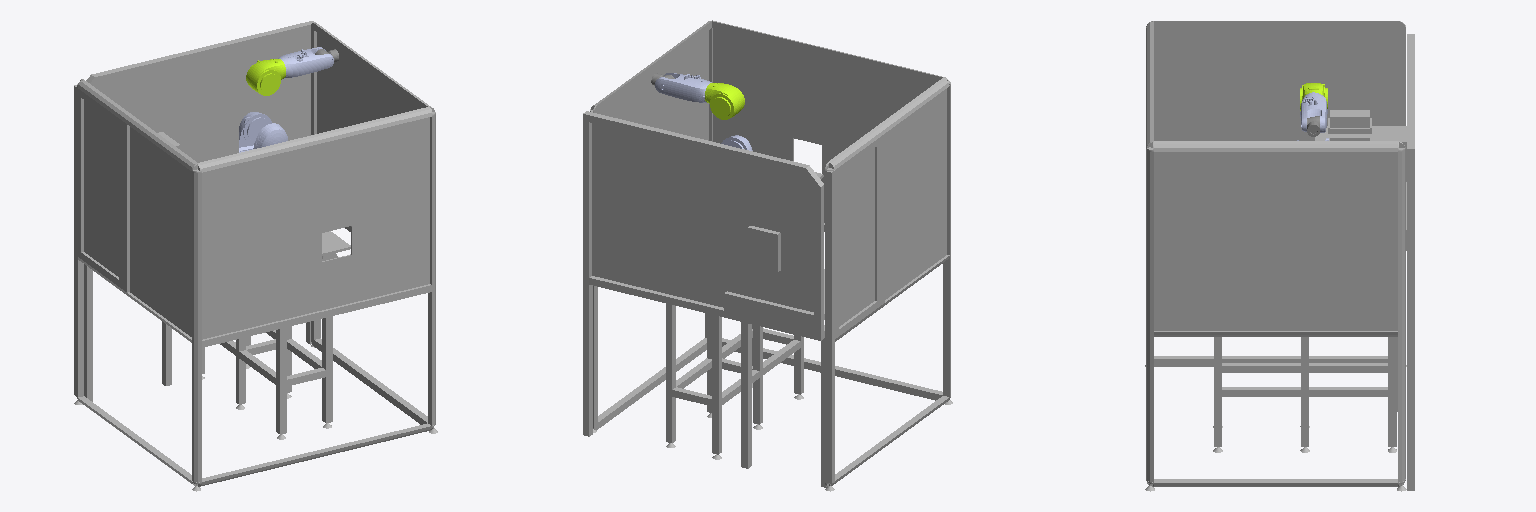
robot.urdf — kuka_urdf:
<?xml version="1.0" encoding="utf-8"?>
<!-- This URDF was automatically created by SolidWorks to URDF Exporter! Originally created by [author] ([email redacted]) 
     Commit Version: 1.5.1-0-g916b5db  Build Version: 1.5.7152.31018
     For more information, please see http://wiki.ros.org/sw_urdf_exporter -->
<robot
  name="kuka_urdf">
  <link
    name="base_link">
    <inertial>
      <origin
        xyz="0.593136178595969 -0.426915267121347 1.11287465825018"
        rpy="0 0 0" />
      <mass
        value="171.3125135409" />
      <inertia
        ixx="15.4278561288017"
        ixy="-0.769988015650329"
        ixz="-0.334753403251735"
        iyy="21.0949940722863"
        iyz="-0.217841140427876"
        izz="14.6830568753194" />
    </inertial>
    <visual>
      <origin
        xyz="0 0 0"
        rpy="0 0 0" />
      <geometry>
        <mesh
          filename="package://kuka_urdf/meshes/base_link.STL" />
      </geometry>
      <material
        name="">
        <color
          rgba="0.752941176470588 0.752941176470588 0.752941176470588 1" />
      </material>
    </visual>
    <collision>
      <origin
        xyz="0 0 0"
        rpy="0 0 0" />
      <geometry>
        <mesh
          filename="package://kuka_urdf/meshes/base_link.STL" />
      </geometry>
    </collision>
  </link>
  <link
    name="Link1">
    <inertial>
      <origin
        xyz="0.00796741917398325 0.00201869055885101 0.115718073498994"
        rpy="0 0 0" />
      <mass
        value="6.27526433045052" />
      <inertia
        ixx="0.0762054973038654"
        ixy="9.82188144569772E-06"
        ixz="-0.00530053527199466"
        iyy="0.0500772495062891"
        iyz="-0.00051503963743002"
        izz="0.0562692167501734" />
    </inertial>
    <visual>
      <origin
        xyz="0 0 0"
        rpy="0 0 0" />
      <geometry>
        <mesh
          filename="package://kuka_urdf/meshes/Link1.STL" />
      </geometry>
      <material
        name="">
        <color
          rgba="0.792156862745098 0.819607843137255 0.933333333333333 1" />
      </material>
    </visual>
    <collision>
      <origin
        xyz="0 0 0"
        rpy="0 0 0" />
      <geometry>
        <mesh
          filename="package://kuka_urdf/meshes/Link1.STL" />
      </geometry>
    </collision>
  </link>
  <joint
    name="Joint1"
    type="revolute">
    <origin
      xyz="0.8275 -0.43219 1.3595"
      rpy="0 0 0" />
    <parent
      link="base_link" />
    <child
      link="Link1" />
    <axis
      xyz="0 0 1" />
    <limit
      lower="0"
      upper="0"
      effort="0"
      velocity="0" />
  </joint>
  <link
    name="Link2">
    <inertial>
      <origin
        xyz="-0.00525474427373662 -0.00581945166654141 0.131443823398878"
        rpy="0 0 0" />
      <mass
        value="7.36258419830385" />
      <inertia
        ixx="0.151415780044457"
        ixy="-1.49717820004816E-05"
        ixz="0.000868975891906837"
        iyy="0.135639503717904"
        iyz="0.00168356968157077"
        izz="0.0384883579896224" />
    </inertial>
    <visual>
      <origin
        xyz="0 0 0"
        rpy="0 0 0" />
      <geometry>
        <mesh
          filename="package://kuka_urdf/meshes/Link2.STL" />
      </geometry>
      <material
        name="">
        <color
          rgba="0.792156862745098 0.819607843137255 0.933333333333333 1" />
      </material>
    </visual>
    <collision>
      <origin
        xyz="0 0 0"
        rpy="0 0 0" />
      <geometry>
        <mesh
          filename="package://kuka_urdf/meshes/Link2.STL" />
      </geometry>
    </collision>
  </link>
  <joint
    name="Joint2"
    type="revolute">
    <origin
      xyz="0.025 0 0.183"
      rpy="0 0 0" />
    <parent
      link="Link1" />
    <child
      link="Link2" />
    <axis
      xyz="0 -1 0" />
    <limit
      lower="0"
      upper="0"
      effort="0"
      velocity="0" />
  </joint>
  <link
    name="Link3">
    <inertial>
      <origin
        xyz="0.0158897369187757 0.00377551618976696 0.0103622040607538"
        rpy="0 0 0" />
      <mass
        value="2.90698496734874" />
      <inertia
        ixx="0.00835937630352445"
        ixy="3.52504576818559E-05"
        ixz="-0.00140858847686176"
        iyy="0.0112132449448129"
        iyz="1.88954255172529E-05"
        izz="0.0100277382418828" />
    </inertial>
    <visual>
      <origin
        xyz="0 0 0"
        rpy="0 0 0" />
      <geometry>
        <mesh
          filename="package://kuka_urdf/meshes/Link3.STL" />
      </geometry>
      <material
        name="">
        <color
          rgba="0.8 1 0.2 1" />
      </material>
    </visual>
    <collision>
      <origin
        xyz="0 0 0"
        rpy="0 0 0" />
      <geometry>
        <mesh
          filename="package://kuka_urdf/meshes/Link3.STL" />
      </geometry>
    </collision>
  </link>
  <joint
    name="Joint3"
    type="revolute">
    <origin
      xyz="0 0 0.315"
      rpy="0 0 0" />
    <parent
      link="Link2" />
    <child
      link="Link3" />
    <axis
      xyz="0 -1 0" />
    <limit
      lower="0"
      upper="0"
      effort="0"
      velocity="0" />
  </joint>
  <link
    name="Link4">
    <inertial>
      <origin
        xyz="0.123981724214701 0.0034688211324434 0.000289159358459745"
        rpy="0 0 0" />
      <mass
        value="2.75654210425904" />
      <inertia
        ixx="0.00584711964625554"
        ixy="-0.000156323136874248"
        ixz="5.19522467907712E-06"
        iyy="0.0156113113263976"
        iyz="1.44373593566699E-05"
        izz="0.0172713088405886" />
    </inertial>
    <visual>
      <origin
        xyz="0 0 0"
        rpy="0 0 0" />
      <geometry>
        <mesh
          filename="package://kuka_urdf/meshes/Link4.STL" />
      </geometry>
      <material
        name="">
        <color
          rgba="0.792156862745098 0.819607843137255 0.933333333333333 1" />
      </material>
    </visual>
    <collision>
      <origin
        xyz="0 0 0"
        rpy="0 0 0" />
      <geometry>
        <mesh
          filename="package://kuka_urdf/meshes/Link4.STL" />
      </geometry>
    </collision>
  </link>
  <joint
    name="Joint4"
    type="revolute">
    <origin
      xyz="0.10695 0.003 0.035"
      rpy="0 0 0" />
    <parent
      link="Link3" />
    <child
      link="Link4" />
    <axis
      xyz="-1 0 0" />
    <limit
      lower="0"
      upper="0"
      effort="0"
      velocity="0" />
  </joint>
  <link
    name="Link5">
    <inertial>
      <origin
        xyz="0.0157891702201667 0.00191367544264814 -3.03958143459404E-05"
        rpy="0 0 0" />
      <mass
        value="0.442067197041372" />
      <inertia
        ixx="0.000318420757784039"
        ixy="1.663144203727E-05"
        ixz="3.2063967174793E-07"
        iyy="0.000528480030475778"
        iyz="3.23079721639524E-07"
        izz="0.000562282896446415" />
    </inertial>
    <visual>
      <origin
        xyz="0 0 0"
        rpy="0 0 0" />
      <geometry>
        <mesh
          filename="package://kuka_urdf/meshes/Link5.STL" />
      </geometry>
      <material
        name="">
        <color
          rgba="0.792156862745098 0.819607843137255 0.933333333333333 1" />
      </material>
    </visual>
    <collision>
      <origin
        xyz="0 0 0"
        rpy="0 0 0" />
      <geometry>
        <mesh
          filename="package://kuka_urdf/meshes/Link5.STL" />
      </geometry>
    </collision>
  </link>
  <joint
    name="Joint5"
    type="revolute">
    <origin
      xyz="0.25805 0 0"
      rpy="0 0 0" />
    <parent
      link="Link4" />
    <child
      link="Link5" />
    <axis
      xyz="0 1 0" />
    <limit
      lower="0"
      upper="0"
      effort="0"
      velocity="0" />
  </joint>
  <link
    name="Link6">
    <inertial>
      <origin
        xyz="0.005980331956146 3.33066907387547E-16 4.3140731314173E-05"
        rpy="0 0 0" />
      <mass
        value="0.0139949492210214" />
      <inertia
        ixx="3.02502810414478E-06"
        ixy="-3.72969348847449E-21"
        ixz="-8.56055866655072E-10"
        iyy="1.71731248188302E-06"
        iyz="1.43493663601883E-22"
        izz="1.70788961196181E-06" />
    </inertial>
    <visual>
      <origin
        xyz="0 0 0"
        rpy="0 0 0" />
      <geometry>
        <mesh
          filename="package://kuka_urdf/meshes/Link6.STL" />
      </geometry>
      <material
        name="">
        <color
          rgba="0.6 0.6 0.6 1" />
      </material>
    </visual>
    <collision>
      <origin
        xyz="0 0 0"
        rpy="0 0 0" />
      <geometry>
        <mesh
          filename="package://kuka_urdf/meshes/Link6.STL" />
      </geometry>
    </collision>
  </link>
  <joint
    name="Joint6"
    type="revolute">
    <origin
      xyz="0.0665 0 0"
      rpy="0 0 0" />
    <parent
      link="Link5" />
    <child
      link="Link6" />
    <axis
      xyz="1 0 0" />
    <limit
      lower="0"
      upper="0"
      effort="0"
      velocity="0" />
  </joint>
</robot>

--- Facts derived from the render (not from the file) ---
The picture shows the robot from 3 angles, left to right: view 1: azimuth 30°, elevation 25°; view 2: azimuth 150°, elevation 25°; view 3: azimuth 270°, elevation 25°; orthographic projection.
Model kuka_urdf with 7 links and 6 joints (6 revolute), rooted at base_link, posed all joints at 0.
Visible links, largest first — view 1: base_link, Link2, Link3, Link4; view 2: base_link, Link3, Link4; view 3: base_link, Link4.
Link boxes in pixels (x1,y1,x2,y2): base_link: [74, 21, 437, 491]; Link2: [239, 112, 287, 152]; Link3: [246, 59, 285, 95]; Link4: [278, 47, 333, 78]; base_link: [583, 20, 952, 491]; Link3: [705, 83, 744, 119]; Link4: [655, 73, 711, 102]; base_link: [1145, 21, 1414, 491]; Link4: [1300, 92, 1327, 132].
Bounding box of the posed robot: 1.49 × 1.33 × 1.97 m (x, y, z).
Meshes: 7 distinct files referenced, 7 mesh visuals loaded (7 binary STL).